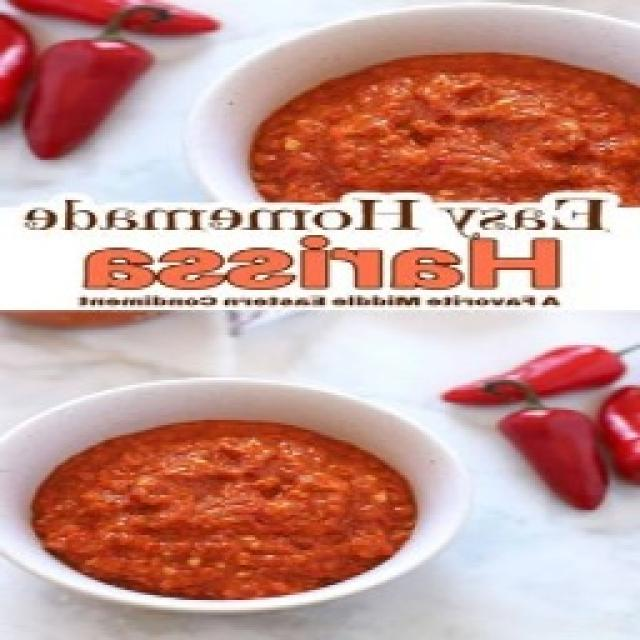Harissa: (20, 55, 640, 307), (34, 421, 410, 597)
